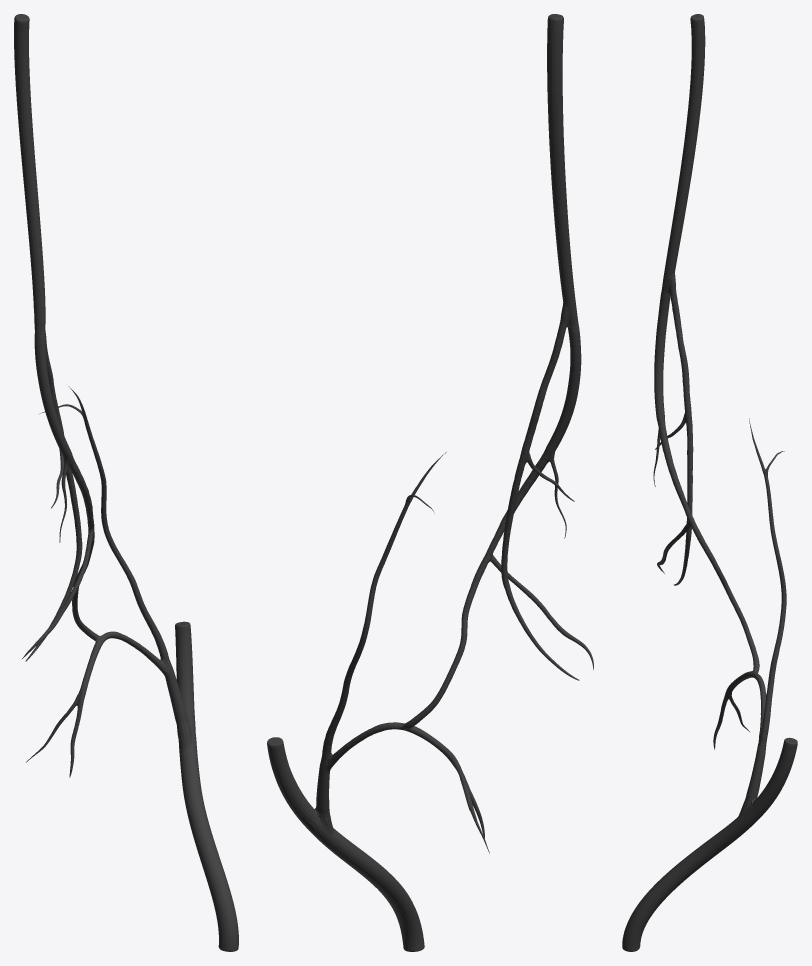
Rendered from nerves_LO.glb.
3 views of the same model, side by side, from view 1: azimuth 30°, elevation 25°; view 2: azimuth 150°, elevation 25°; view 3: azimuth 270°, elevation 25° (orthographic). The views are drawn at different scales.
Parts seen in each view (by area): view 1: nerves_LO; view 2: nerves_LO; view 3: nerves_LO.
Boxes of the visible parts, x1,y1,x2,y2 form: nerves_LO: (14, 14, 238, 951); nerves_LO: (267, 14, 593, 951); nerves_LO: (622, 14, 797, 951).
Bounding box in the file's own units: 0.2693 × 1.03 × 0.1908.
1 material, 1 textured.
